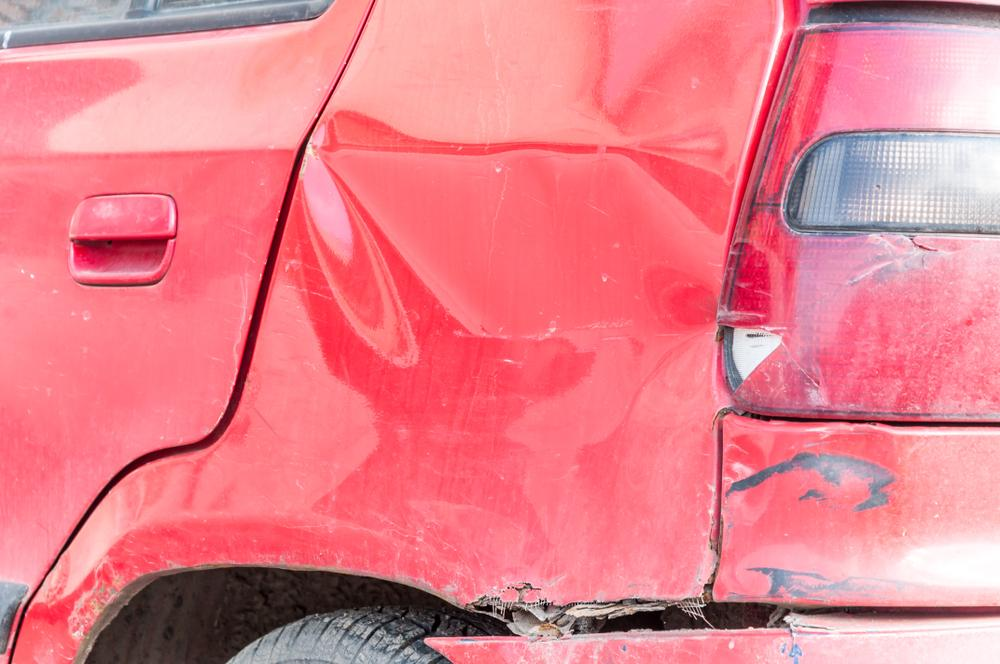dent: (280, 111, 734, 583)
lamp broken: (721, 20, 1000, 425)
scratch: (728, 452, 905, 603)
